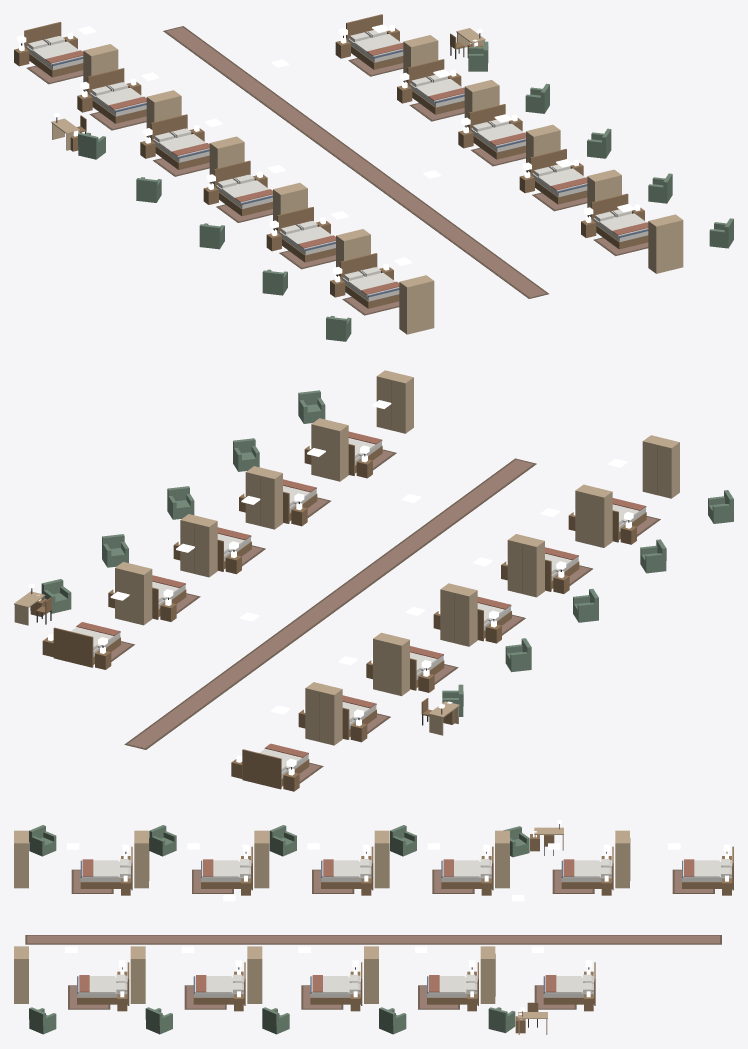
File: fine-s2.glb
3 views of the same model, one above another, from view 1: azimuth 30°, elevation 25°; view 2: azimuth 150°, elevation 25°; view 3: azimuth 270°, elevation 25° (orthographic). The views are drawn at different scales.
Visible parts, largest first — view 1: soft-s2, dresser.015, dresser.021, bed-frame.021, bed-frame.017, bed-frame.016, bed-frame.018, bed-frame.020, bed-frame.019, bed-frame.015, bed-frame.012, bed-frame.013 (+21 smaller); view 2: soft-s2, dresser.016, dresser.018, dresser.019, dresser.020, dresser.021, dresser.017, dresser.011, dresser.012, dresser.014, dresser.015, dresser.013 (+11 smaller); view 3: soft-s2, dresser.018, dresser.019, dresser.011, dresser.013, dresser.014, dresser.016, dresser.020, dresser.017, dresser.021, dresser.012, dresser.015 (+21 smaller).
Part boxes in pixels (left/top/right/bottom): soft-s2: left=17, top=26, right=648, bottom=315; dresser.015: left=648, top=214, right=683, bottom=273; dresser.021: left=399, top=275, right=434, bottom=334; bed-frame.021: left=340, top=253, right=399, bottom=308; bed-frame.017: left=87, top=68, right=146, bottom=123; bed-frame.016: left=24, top=22, right=83, bottom=77; bed-frame.018: left=150, top=114, right=209, bottom=169; bed-frame.020: left=277, top=207, right=335, bottom=262; bed-frame.019: left=214, top=160, right=272, bottom=216; bed-frame.015: left=591, top=193, right=648, bottom=249; bed-frame.012: left=407, top=59, right=464, bottom=114; bed-frame.013: left=468, top=104, right=525, bottom=159; soft-s2: left=71, top=431, right=660, bottom=783; dresser.016: left=305, top=682, right=342, bottom=745; dresser.018: left=440, top=583, right=477, bottom=646; dresser.019: left=507, top=534, right=544, bottom=597; dresser.020: left=575, top=484, right=612, bottom=547; dresser.021: left=642, top=435, right=679, bottom=498; dresser.017: left=373, top=632, right=409, bottom=696; dresser.011: left=115, top=562, right=152, bottom=625; dresser.012: left=180, top=514, right=217, bottom=577; dresser.014: left=311, top=418, right=348, bottom=481; dresser.015: left=376, top=370, right=413, bottom=433; dresser.013: left=245, top=466, right=282, bottom=529; soft-s2: left=25, top=844, right=730, bottom=1009; dresser.018: left=374, top=830, right=389, bottom=888; dresser.019: left=254, top=830, right=269, bottom=888; dresser.011: left=480, top=946, right=495, bottom=1003; dresser.013: left=247, top=946, right=262, bottom=1003; dresser.014: left=130, top=946, right=145, bottom=1003; dresser.016: left=615, top=830, right=630, bottom=888; dresser.020: left=134, top=830, right=149, bottom=888; dresser.017: left=495, top=830, right=509, bottom=888; dresser.021: left=14, top=830, right=28, bottom=888; dresser.012: left=364, top=946, right=378, bottom=1003; dresser.015: left=14, top=946, right=28, bottom=1003.
Size of the model in its own units: 18.17 by 2 by 29.01.
